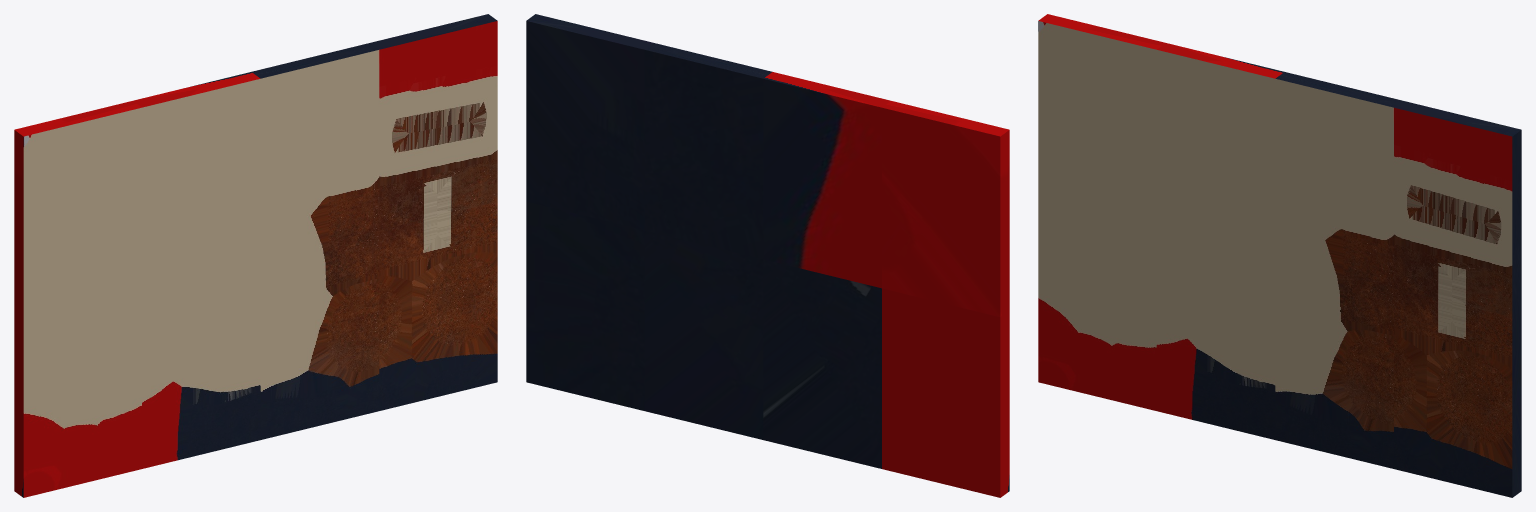
File: repair.fbx
3 views of the same model, side by side, from view 1: azimuth 30°, elevation 25°; view 2: azimuth 150°, elevation 25°; view 3: azimuth 330°, elevation 25° (orthographic).
Visible parts, largest first — view 1: polySurface2, polySurface1, polySurface4, polySurface6, polySurface7, polySurface5, polySurface3, polySurface8; view 2: polySurface2, polySurface1, polySurface4, polySurface6, polySurface7, polySurface5, polySurface3, polySurface8; view 3: polySurface6, polySurface3, polySurface7, polySurface2, polySurface4, polySurface8, polySurface1, polySurface5.
Boxes of the visible parts, x1,y1,x2,y2 form: polySurface2: (14,101,141,317); polySurface1: (14,288,141,497); polySurface4: (251,43,379,259); polySurface6: (370,14,497,230); polySurface7: (133,72,260,288); polySurface5: (260,230,379,439); polySurface3: (379,201,497,410); polySurface8: (142,259,260,468); polySurface2: (882,101,1009,317); polySurface1: (882,288,1009,497); polySurface4: (644,43,772,259); polySurface6: (526,14,653,230); polySurface7: (763,72,890,288); polySurface5: (644,230,763,439); polySurface3: (526,201,644,410); polySurface8: (763,259,881,468); polySurface6: (1394,101,1521,317); polySurface3: (1394,288,1521,497); polySurface7: (1156,43,1284,259); polySurface2: (1038,14,1165,230); polySurface4: (1275,72,1402,288); polySurface8: (1156,230,1275,439); polySurface1: (1038,201,1156,410); polySurface5: (1275,259,1393,468).
Size of the model in its own units: 12.95 by 9.43 by 0.4438.
